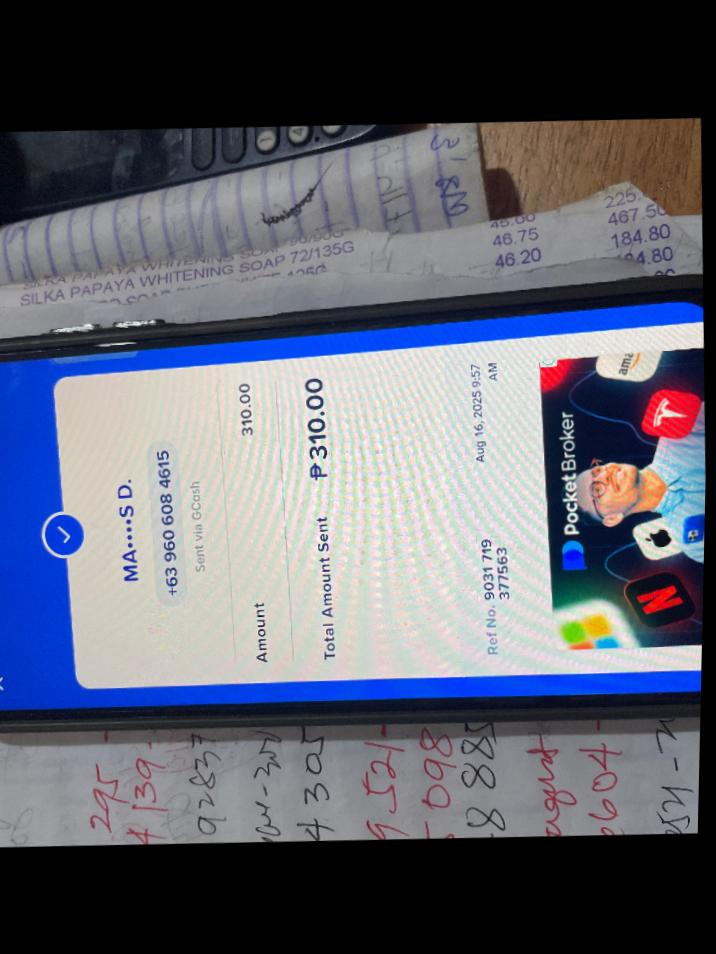Receipt: (0, 298, 706, 711)
